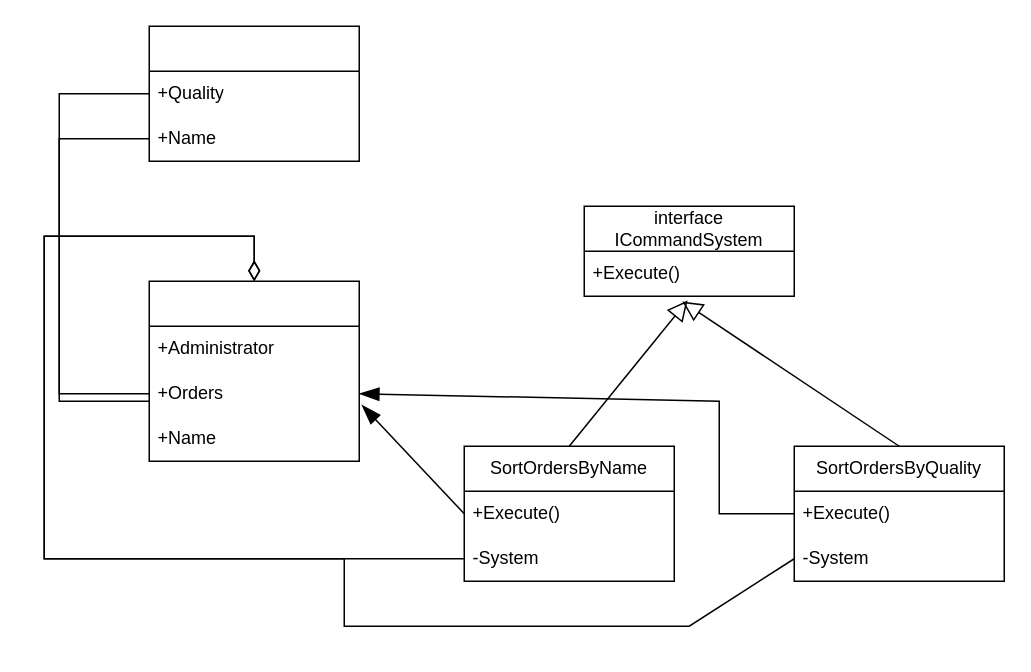
Image size: 1031x672. Some labels were removed from this diagram. Here are the shapes that lost their labels. From the top down, the box of each, then its label:
(148, 25, 359, 161): Order
(148, 280, 359, 461): System
